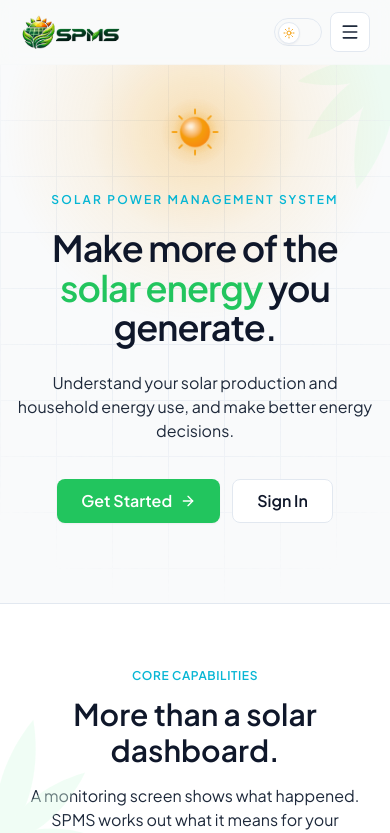
SPMS landing page (O1) › mobile menu button toggles the disclosure navigation
The image size is (390, 833).
Click the button named "open menu" at (350, 32), box top-left (330, 12), bottom-right (370, 52)
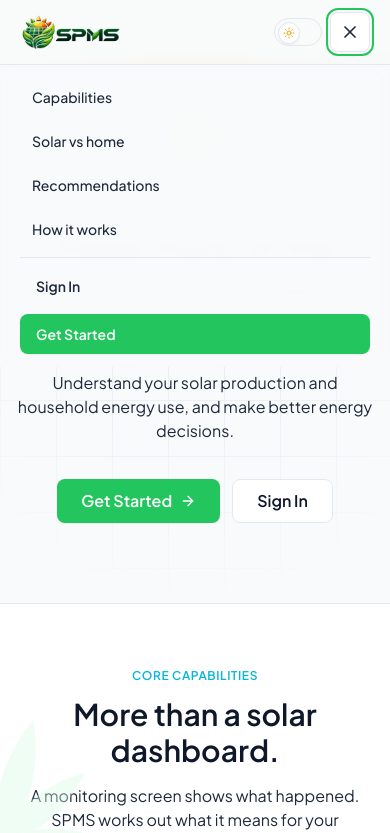
Expected: the button named "open menu" is expanded, top-left (330, 12), bottom-right (370, 52)
Expected: the navigation bar named "mobile" is shown, top-left (0, 65), bottom-right (389, 366)
